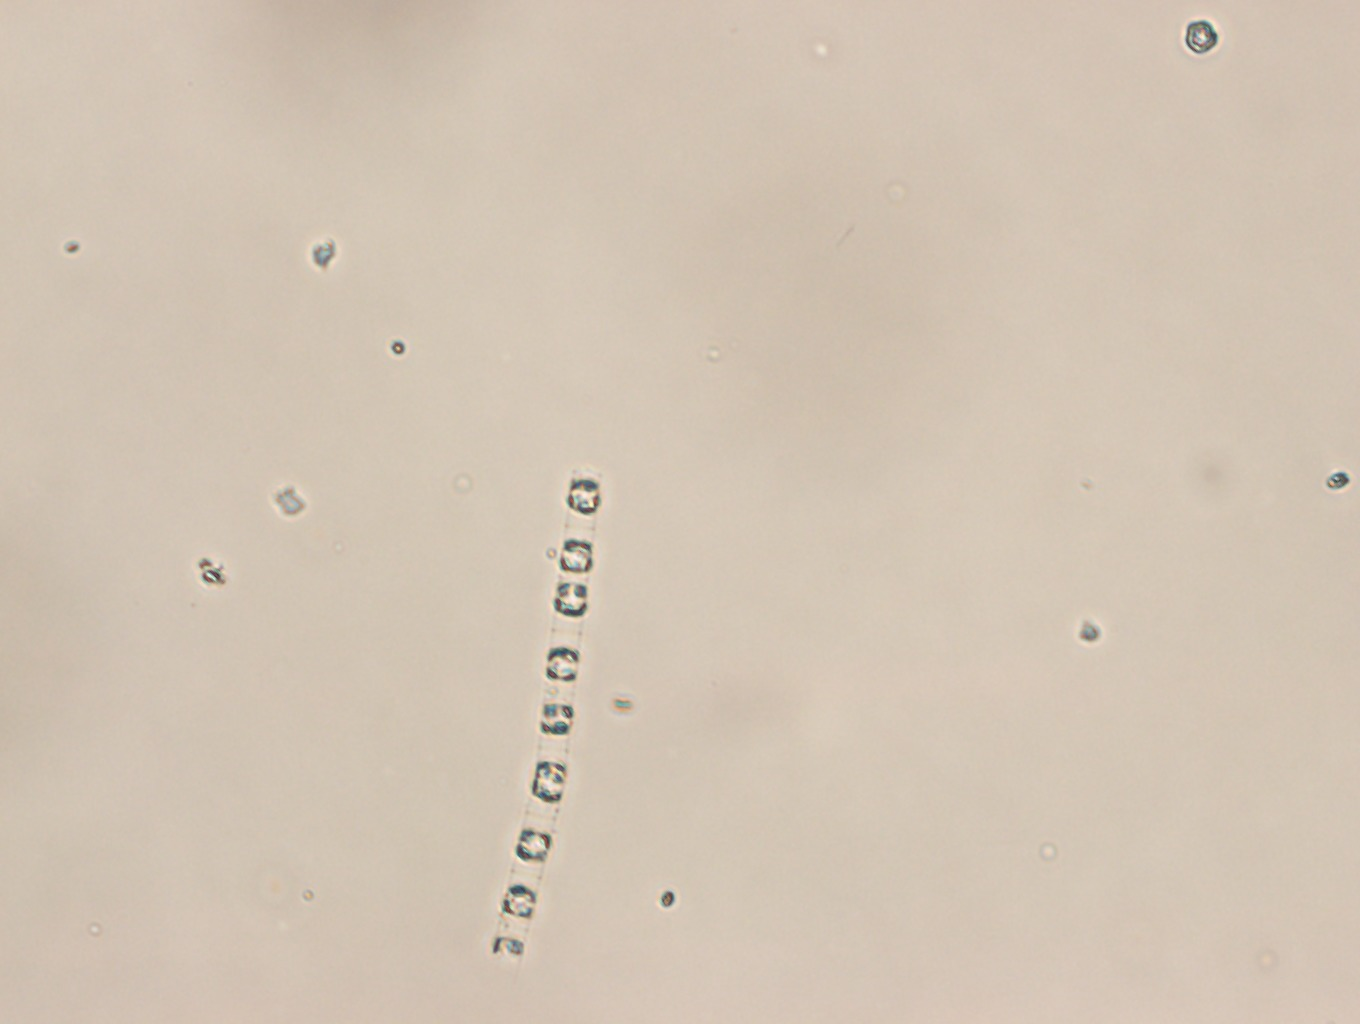skeletonema: (487, 465, 600, 969)
